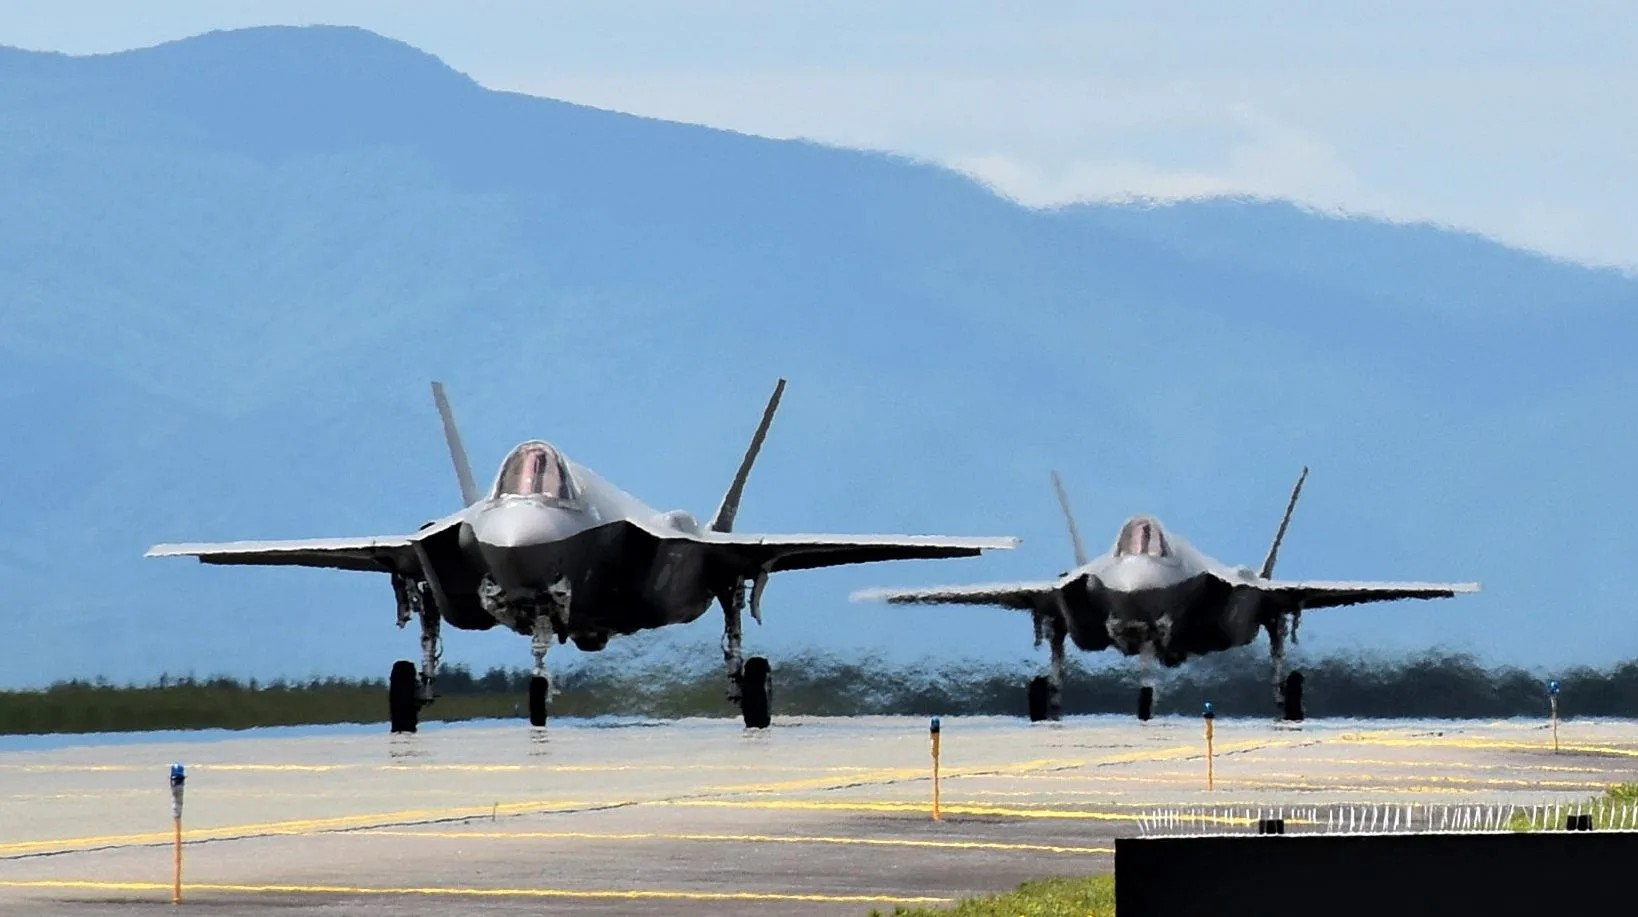F-35 Lightning: (200, 366, 907, 743), (1010, 460, 1320, 708)
